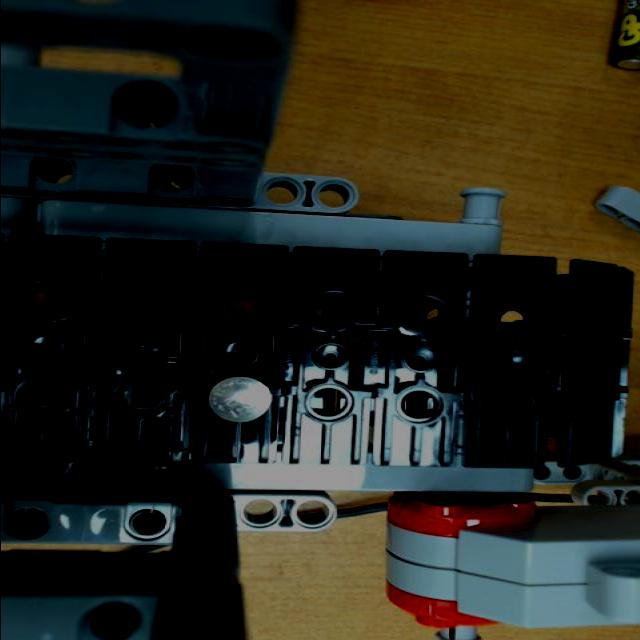COIN: (206, 372, 274, 424)
